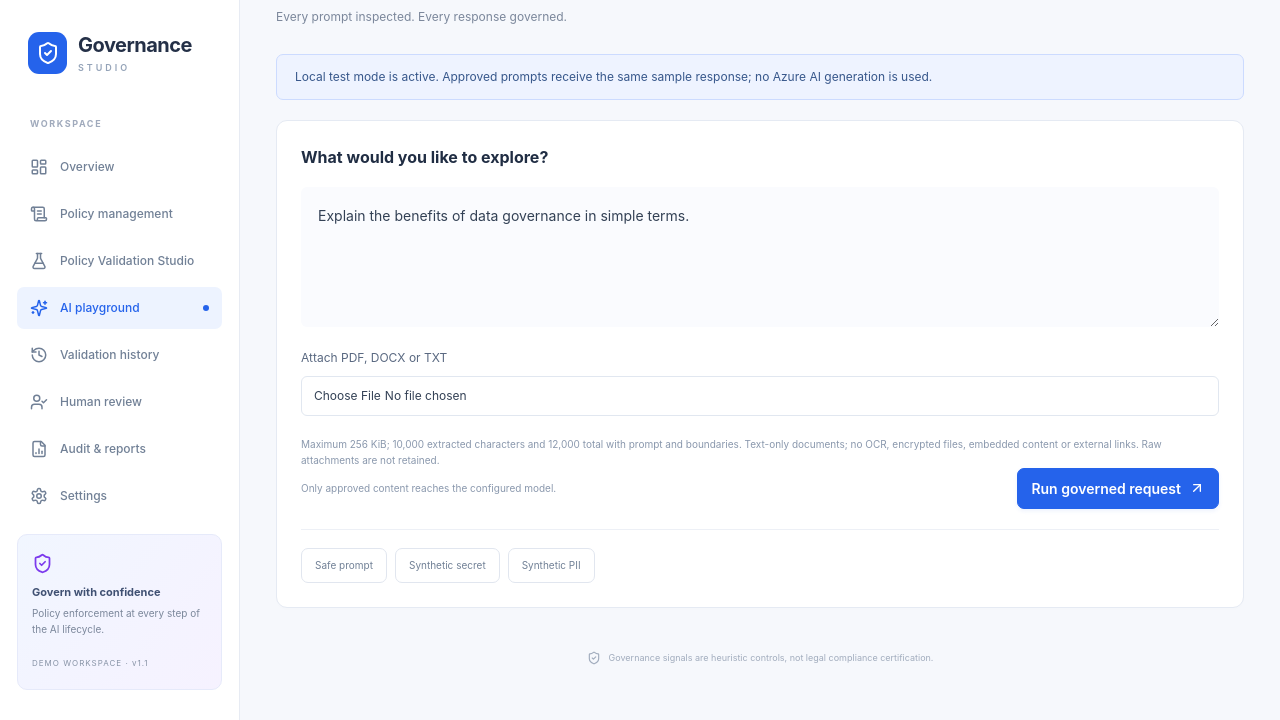
it: uses one v2 request, renders all per-policy input/output results and keeps the precondition
(page scrolled)
Expected: the text "Approved prompts receive the same sample response" is shown, [295, 69, 932, 84]
What coordinates should you click on to do the following:
click the button "Run governed request"
I would click on:
 (1118, 488)
Its box is [1017, 468, 1219, 509].
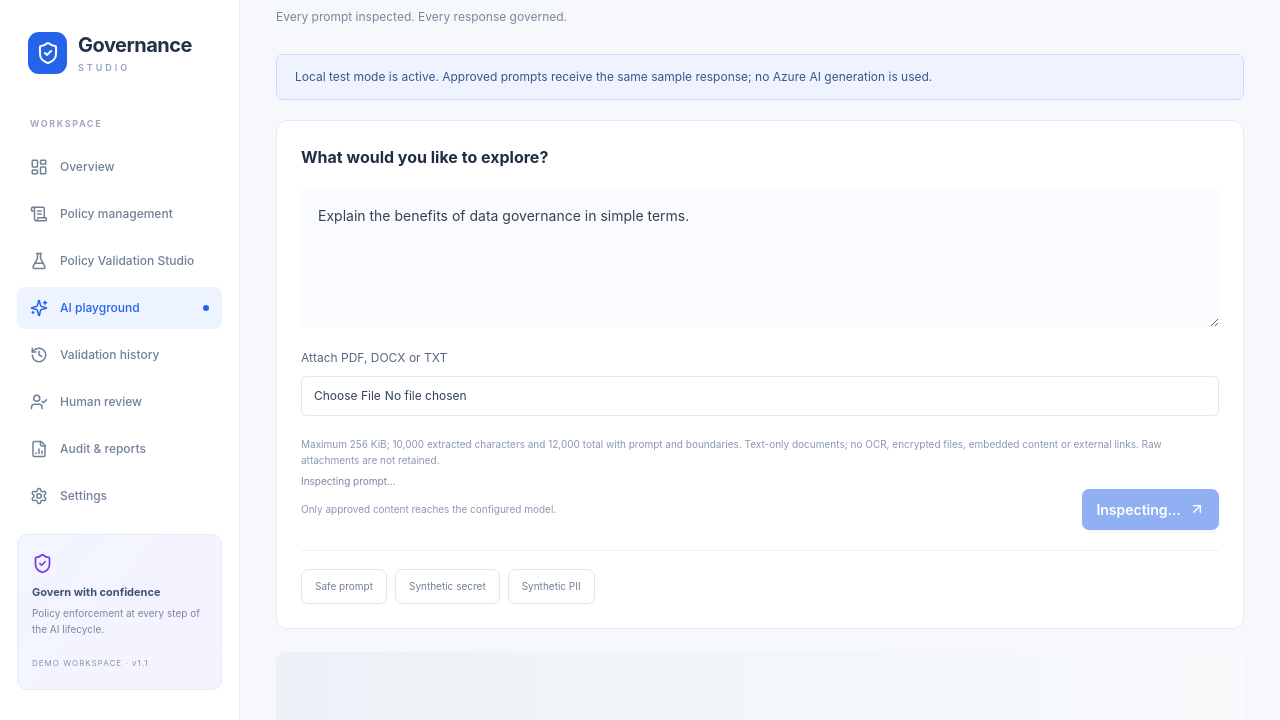
What coordinates should you click on to do the following:
click the button named "Run governed request"
I would click on:
 (1151, 509)
Its box is [1082, 489, 1219, 530].
(page scrolled)
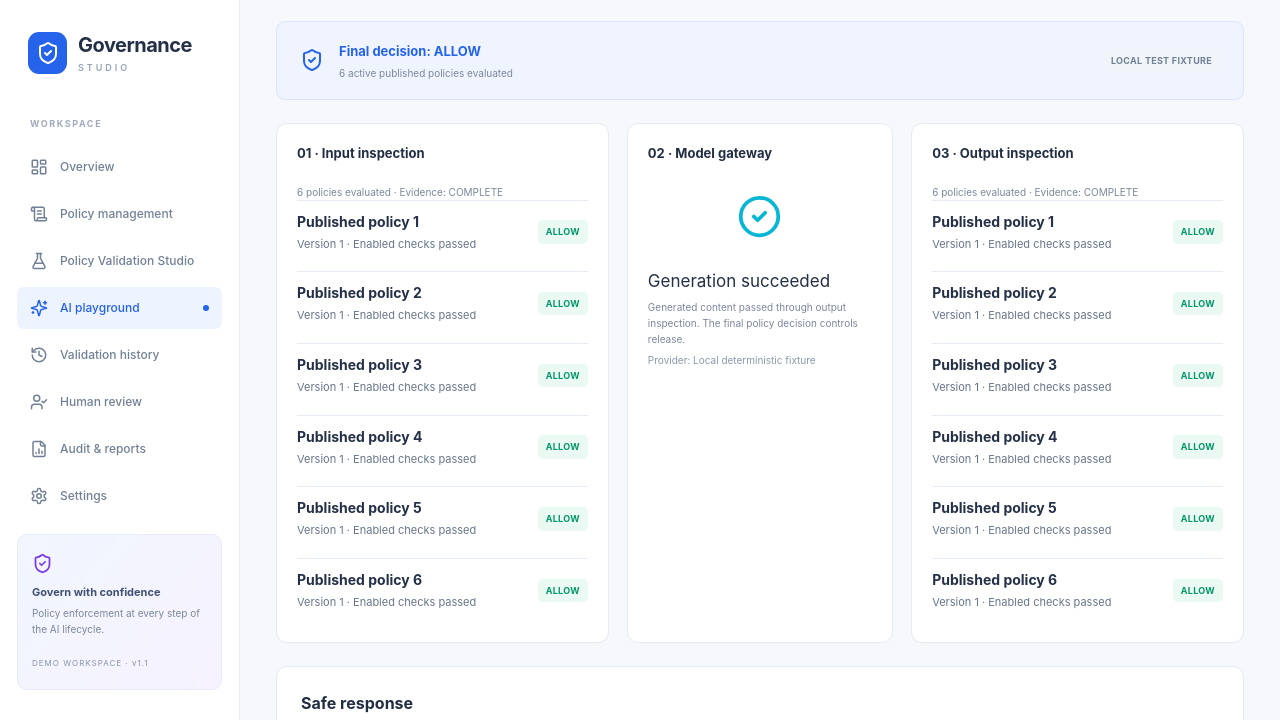
Expected: the text "6 policies evaluated · Evidence: COMPLETE" is shown 2 times, [297, 186, 503, 198]; [932, 186, 1138, 198]
Expected: the text "Published policy 1" is shown 2 times, [297, 213, 419, 230]; [932, 213, 1054, 230]
Expected: the text "Provider: Local deterministic fixture" is shown, [648, 354, 816, 366]
